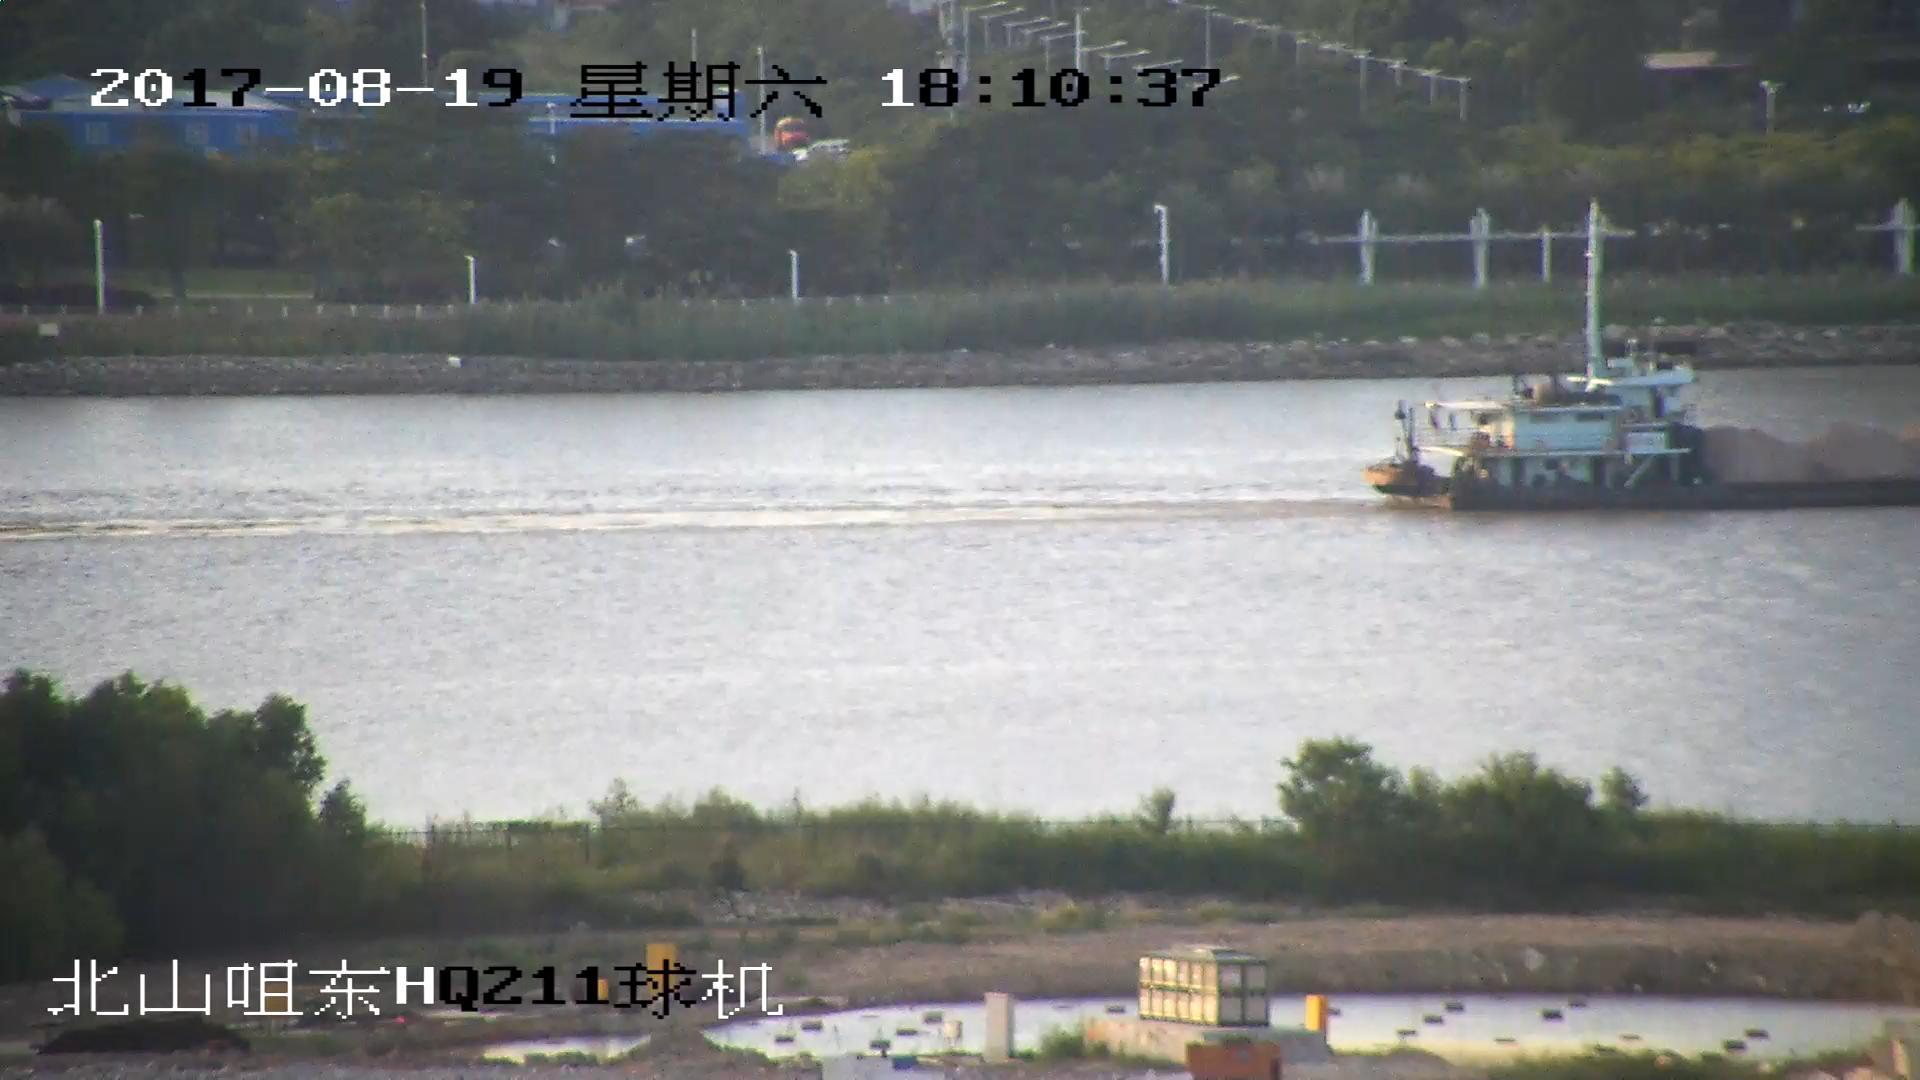Ship: (1367, 203, 1920, 524)
